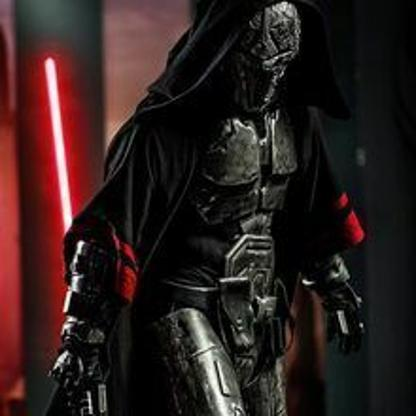sith_lightsaber: (28, 47, 88, 242)
